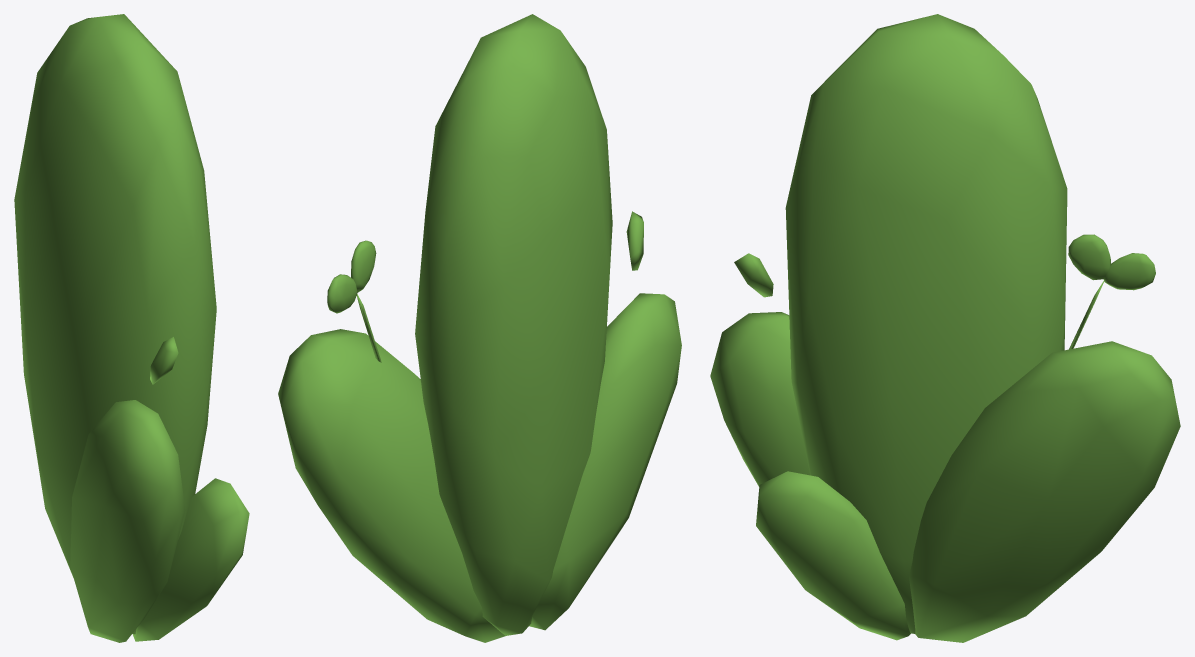
File: Plant_5.fbx
3 renders of one model, left to right at view 1: azimuth 30°, elevation 25°; view 2: azimuth 150°, elevation 25°; view 3: azimuth 270°, elevation 25°, orthographic.
Visible parts, largest first — view 1: Plant_5; view 2: Plant_5; view 3: Plant_5.
Boxes of the visible parts, left/top/right/bottom form: Plant_5: left=14, top=14, right=249, bottom=642; Plant_5: left=278, top=14, right=681, bottom=642; Plant_5: left=710, top=14, right=1180, bottom=642.
Bounding box in the file's own units: 45.88 × 128 × 88.26.
